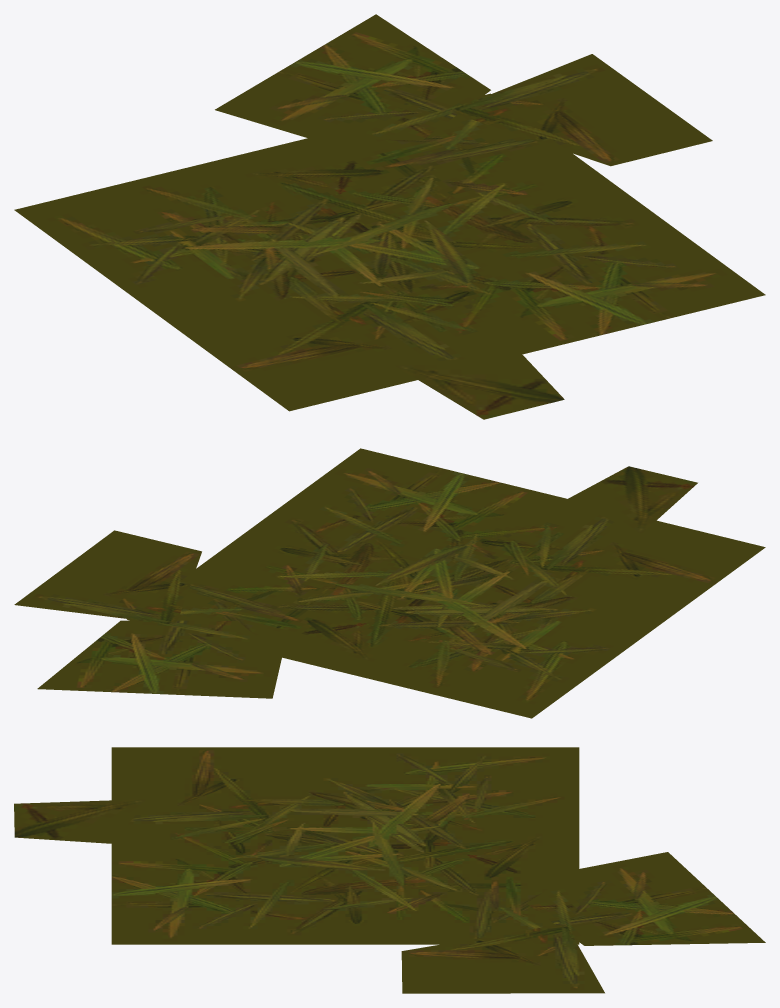
File: bg_anh_tree_bamboo04_sm_ksy.FBX
3 views of the same model, one above another, from view 1: azimuth 30°, elevation 25°; view 2: azimuth 150°, elevation 25°; view 3: azimuth 270°, elevation 25° (orthographic). The views are drawn at different scales.
Visible parts, largest first — view 1: bg_anh_tree_bamboo04_sm_ksy; view 2: bg_anh_tree_bamboo04_sm_ksy; view 3: bg_anh_tree_bamboo04_sm_ksy.
Part boxes in pixels (bbox=[...]): bg_anh_tree_bamboo04_sm_ksy: bbox=[14, 14, 765, 419]; bg_anh_tree_bamboo04_sm_ksy: bbox=[14, 448, 765, 718]; bg_anh_tree_bamboo04_sm_ksy: bbox=[14, 747, 765, 993].
Size of the model in its own units: 160 by 0.1288 by 206.
